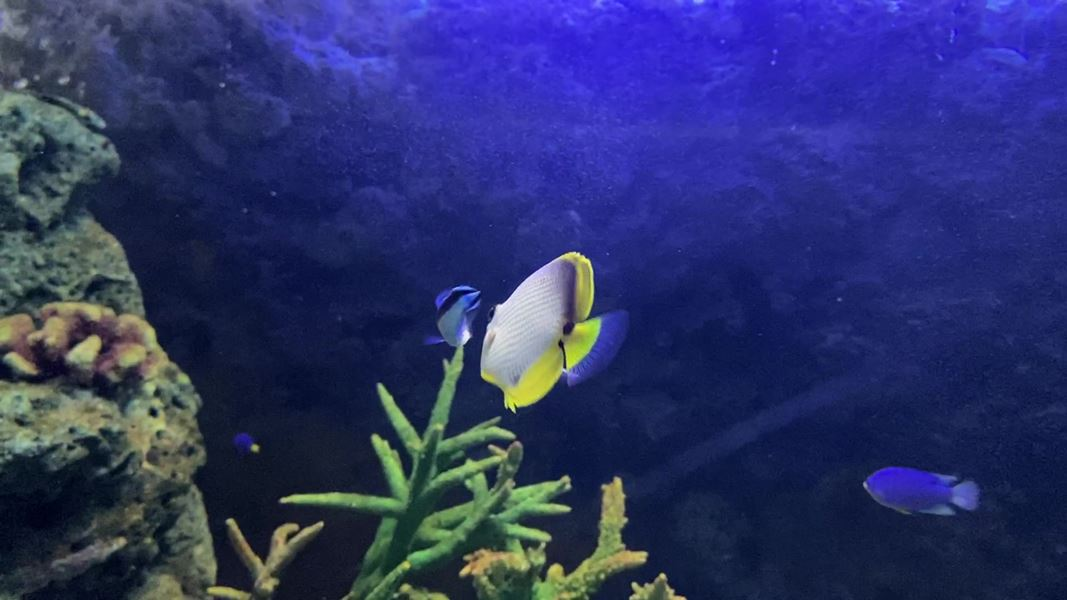Bluesteak cleaner wrasse: (418, 275, 483, 354)
